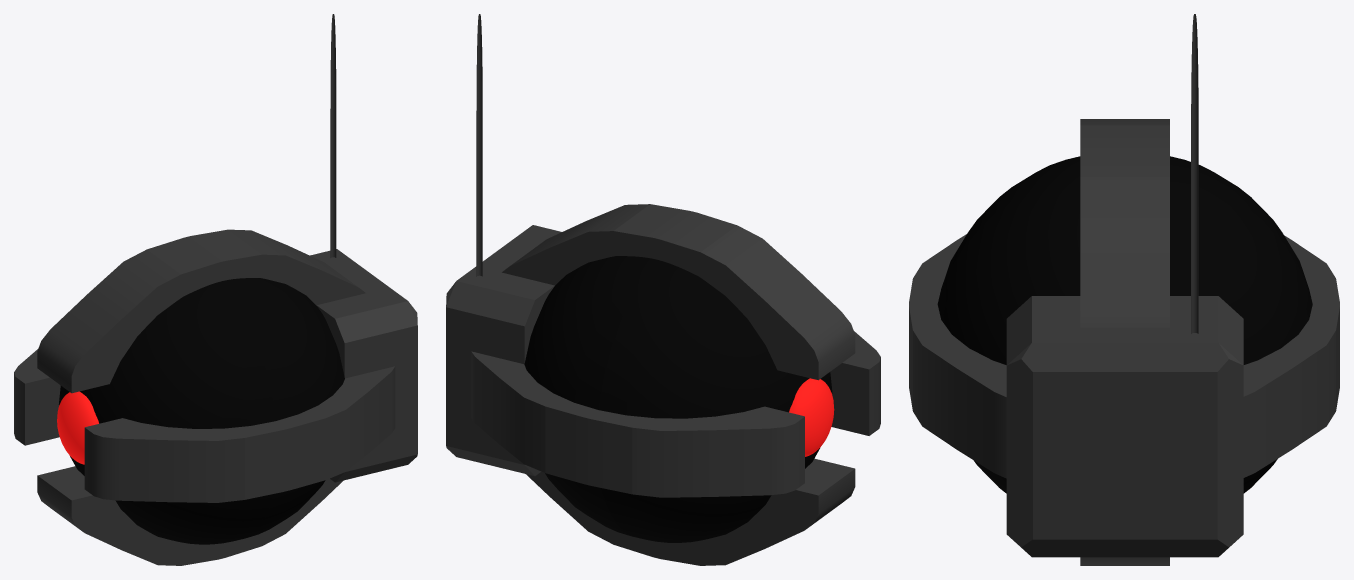
The model's file is Enemy1.fbx.
The picture shows the model from 3 angles, left to right: view 1: azimuth 30°, elevation 25°; view 2: azimuth 150°, elevation 25°; view 3: azimuth 270°, elevation 25°; orthographic projection. The views are drawn at different scales.
Visible parts, largest first — view 1: Cube.119; view 2: Cube.119; view 3: Cube.119.
Boxes of the visible parts, x1=… form: Cube.119: x1=14, y1=14, x2=417, y2=565; Cube.119: x1=446, y1=14, x2=880, y2=565; Cube.119: x1=909, y1=14, x2=1339, y2=565.
Size of the model in its own units: 257 by 356 by 224.
